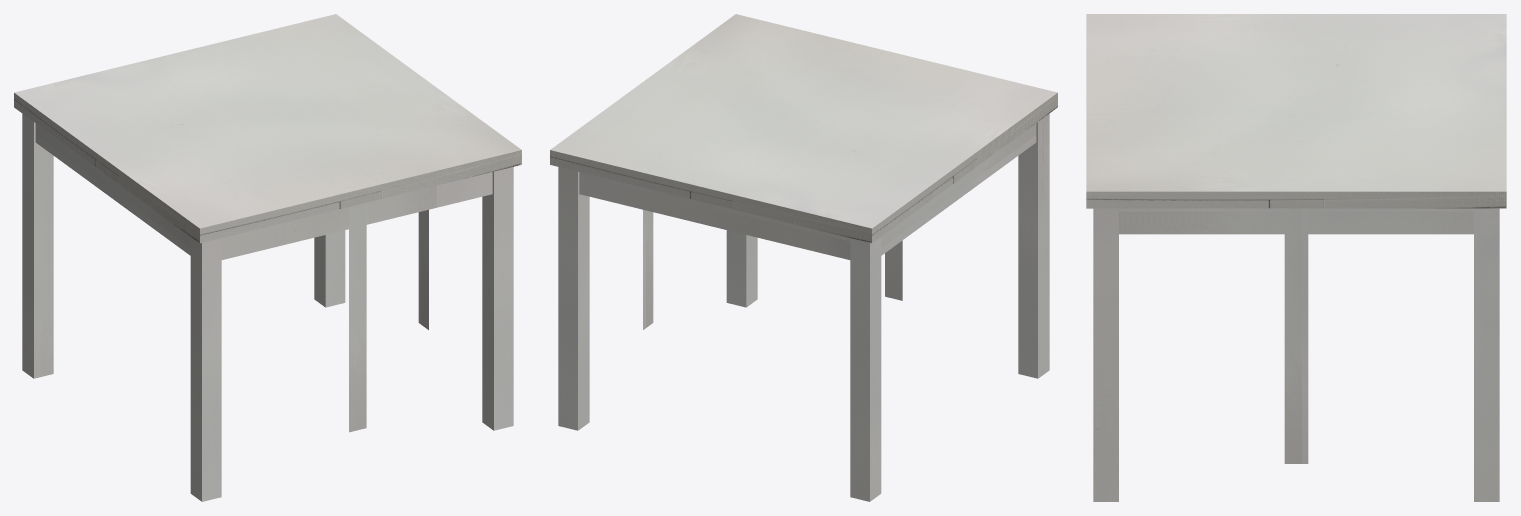
The model's file is table_ikea_bjursta_narrow_passage.dae.
3 views of the same model, side by side, from view 1: azimuth 30°, elevation 25°; view 2: azimuth 150°, elevation 25°; view 3: azimuth 270°, elevation 25° (orthographic). The views are drawn at different scales.
Parts seen in each view (by area): view 1: SketchUp (×3); view 2: SketchUp (×3); view 3: SketchUp (×3).
Boxes of the visible parts, x1,y1,x2,y2 form: SketchUp (×3): (14,14,521,501); SketchUp (×3): (550,14,1057,501); SketchUp (×3): (1086,14,1506,501).
Size of the model in its own units: 0.9003 by 0.8995 by 0.7396.
Materials: 2 (2 with a texture image).
